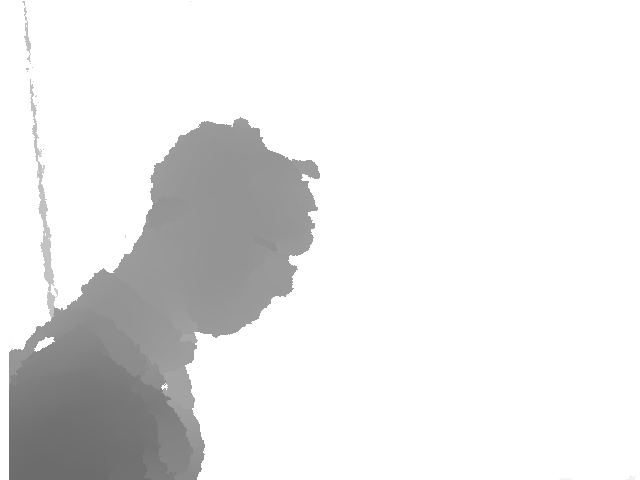head: (148, 118, 320, 340)
person: (10, 118, 322, 480)
